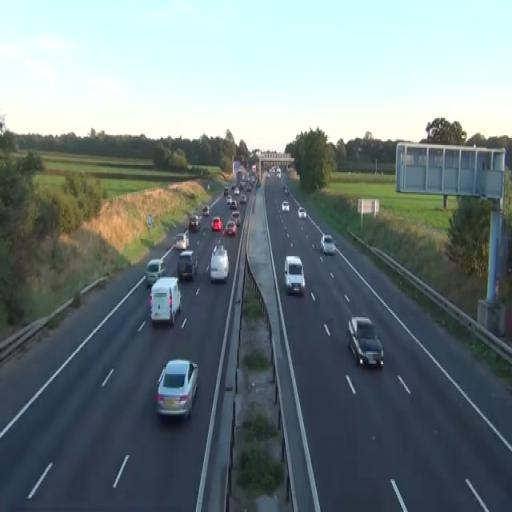Car: (154, 358, 199, 420), (346, 317, 384, 369), (148, 276, 182, 326), (284, 256, 306, 296), (210, 244, 230, 284), (145, 258, 167, 288), (178, 249, 196, 281), (320, 234, 336, 255), (188, 214, 200, 233), (210, 216, 223, 232), (226, 221, 236, 236)
Truck: (148, 276, 182, 326)
